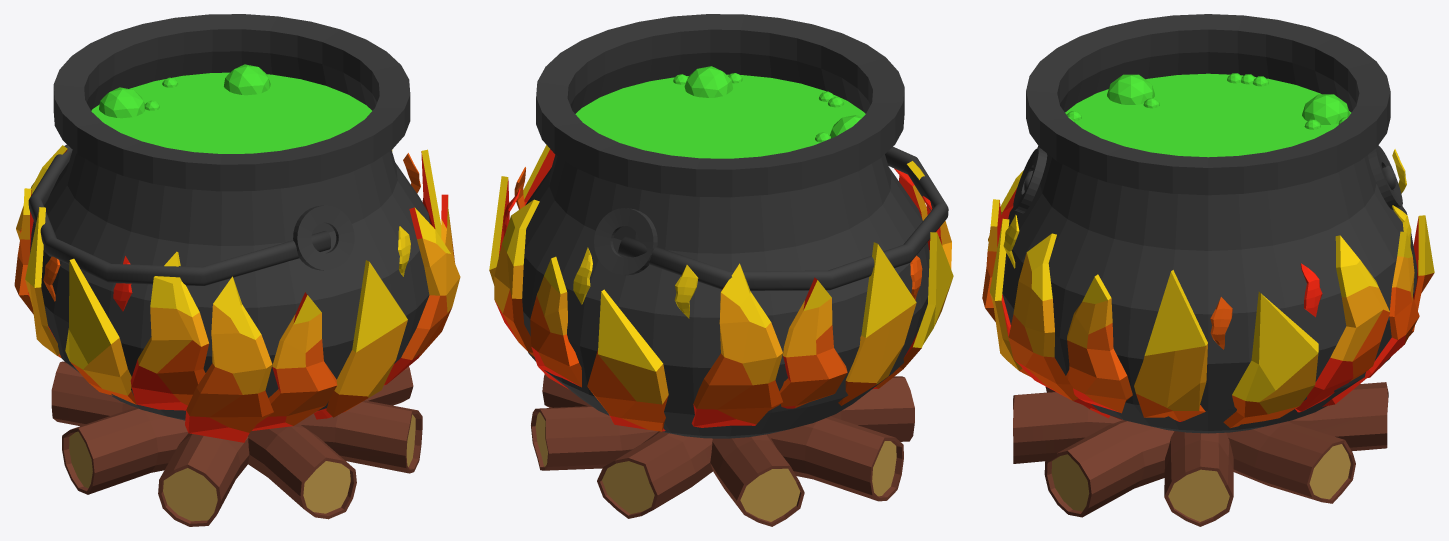
Rendered from bonfire_animated.glb.
3 renders of one model, left to right at view 1: azimuth 30°, elevation 25°; view 2: azimuth 150°, elevation 25°; view 3: azimuth 270°, elevation 25°, orthographic. The views are drawn at different scales.
Visible parts, largest first — view 1: cauldron, flames, logs, bubbles; view 2: cauldron, flames, logs, bubbles; view 3: cauldron, flames, logs, bubbles.
Boxes of the visible parts, box(x1,y1,x2,y2) form: cauldron: box(28, 14, 430, 420); flames: box(14, 145, 460, 442); logs: box(51, 361, 422, 526); bubbles: box(99, 64, 270, 118); cauldron: box(522, 14, 948, 438); flames: box(489, 145, 953, 431); logs: box(531, 374, 914, 526); bubbles: box(673, 66, 862, 142); cauldron: box(1002, 14, 1417, 433); flames: box(982, 149, 1434, 428); logs: box(1013, 382, 1388, 526); bubbles: box(1066, 73, 1349, 129).
Bounding box in the file's own units: 0.6711 × 0.5915 × 0.6603.
